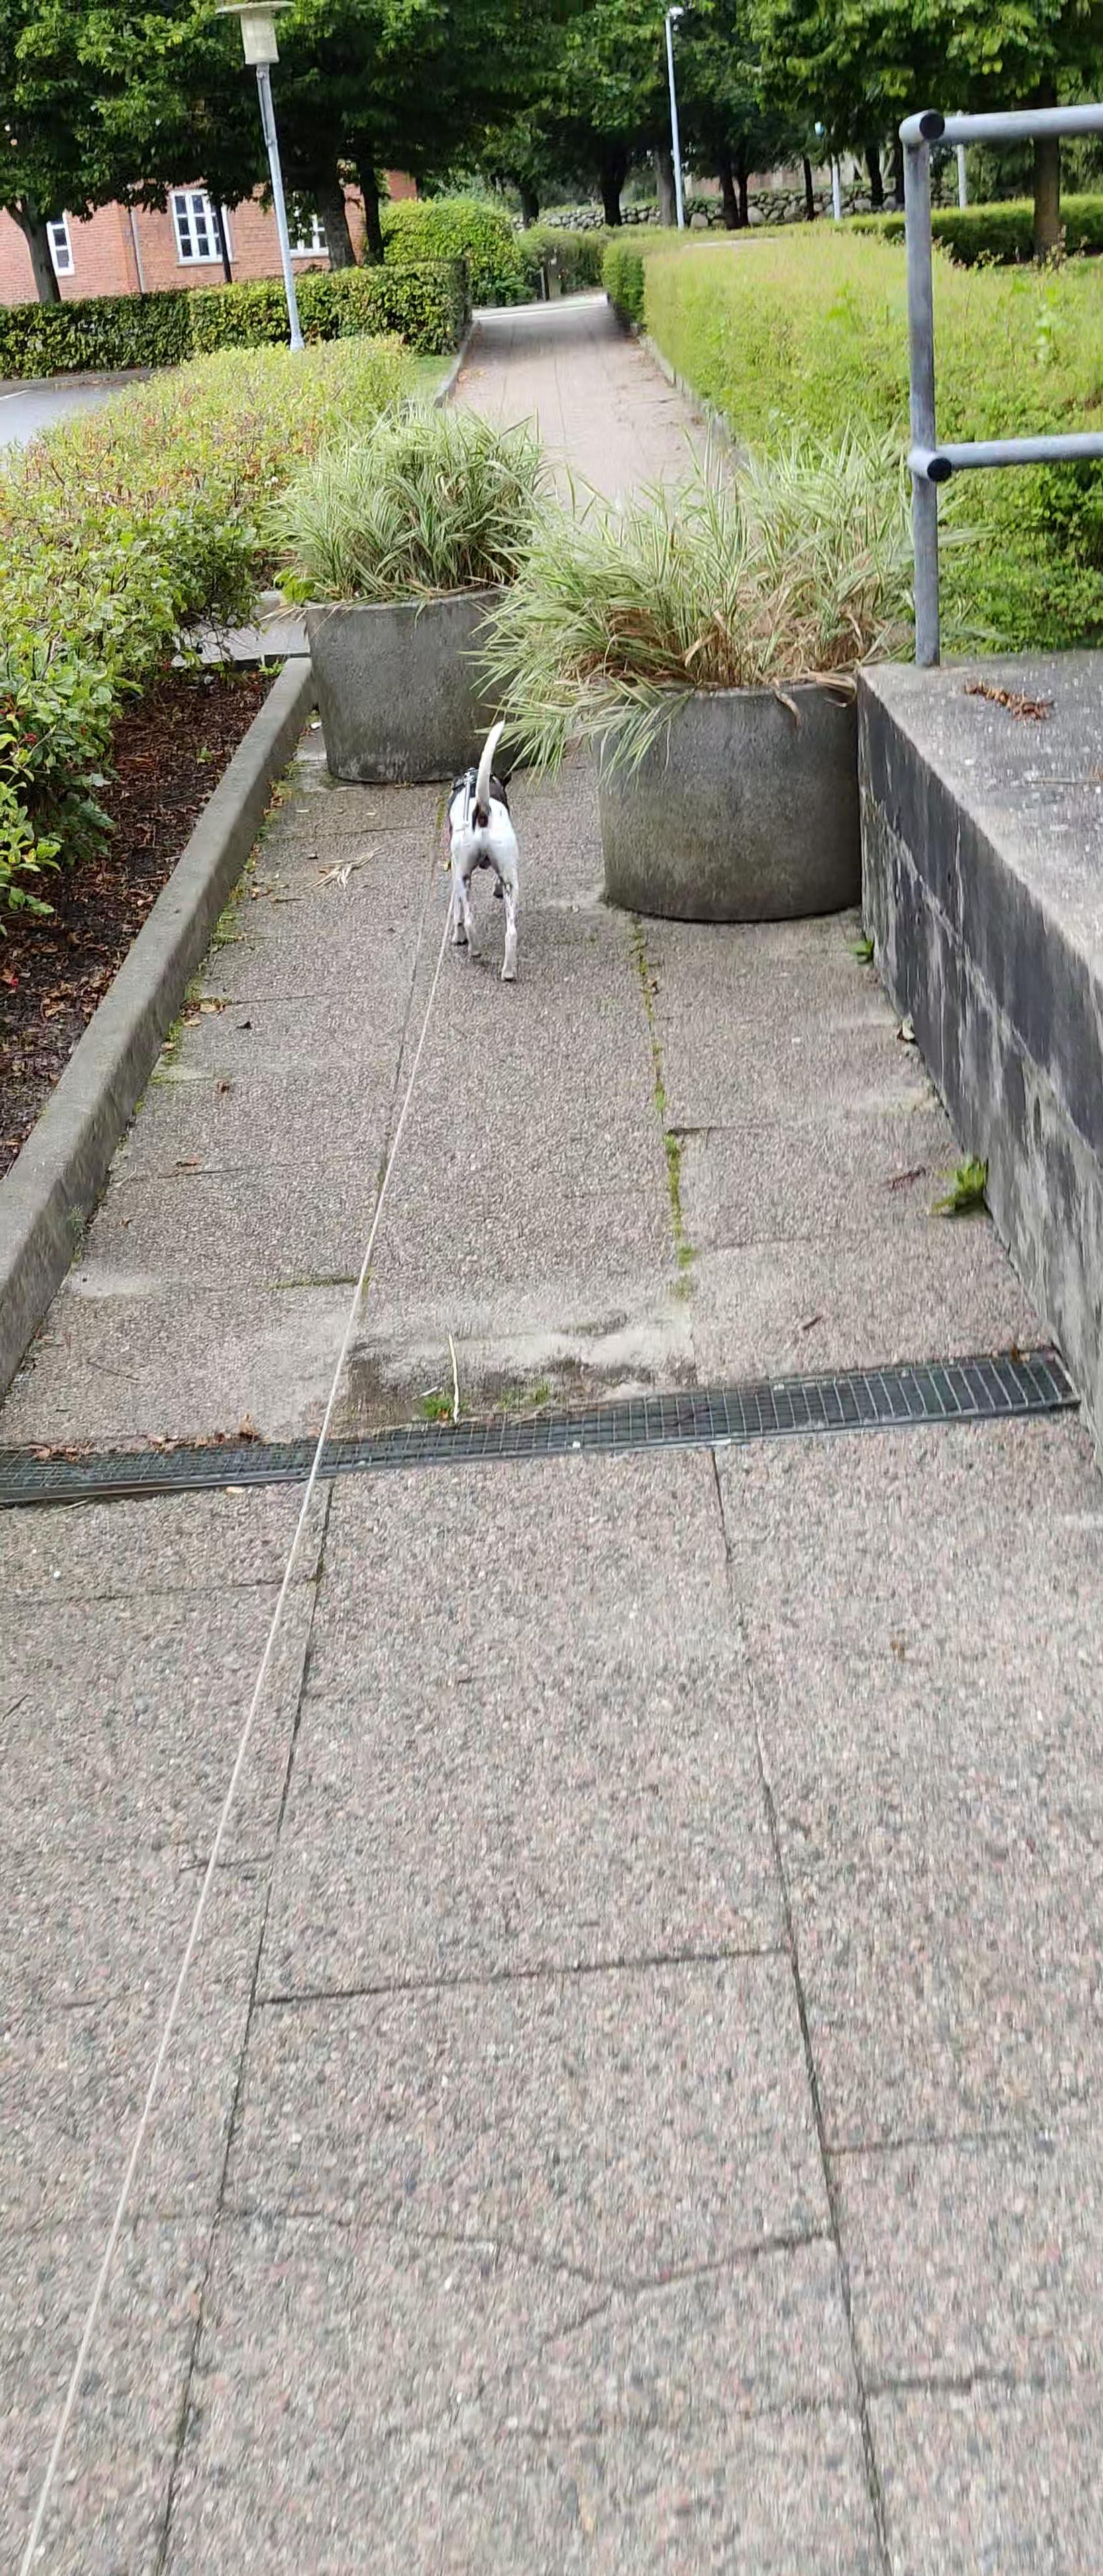Dog: (442, 718, 523, 984)
